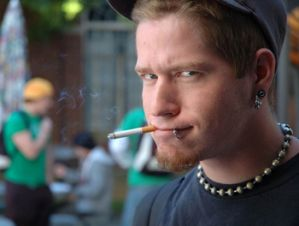cigarette: (106, 124, 168, 144)
